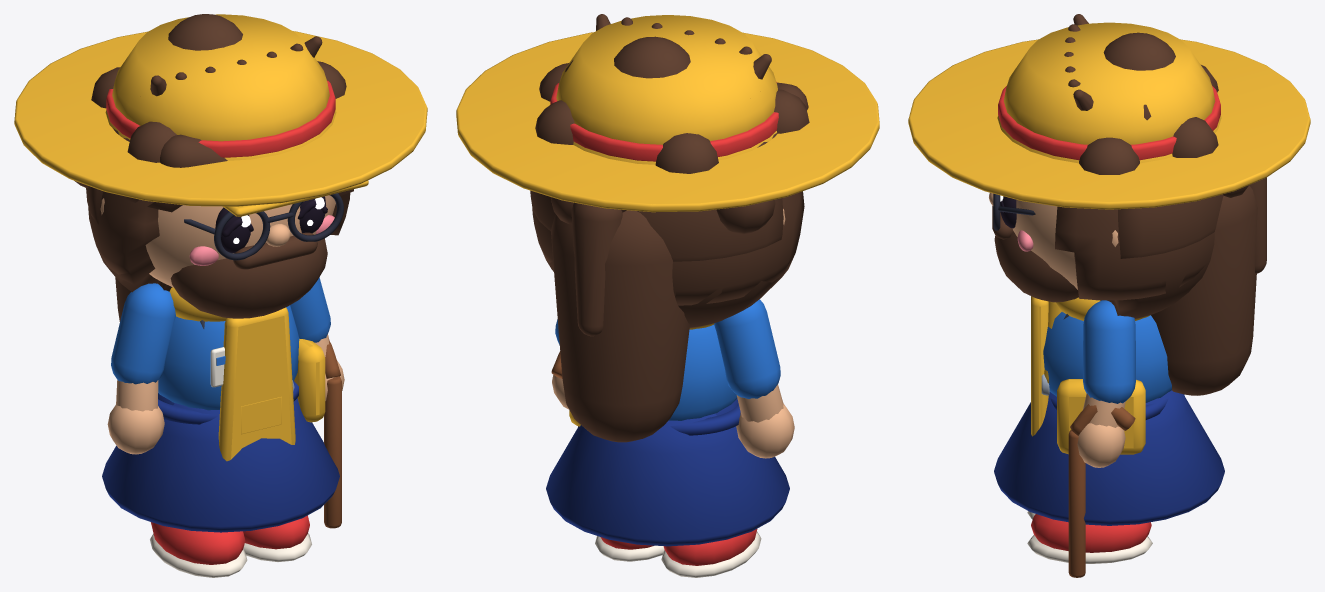
The model's file is kid.glb.
3 renders of one model, left to right at view 1: azimuth 30°, elevation 25°; view 2: azimuth 150°, elevation 25°; view 3: azimuth 270°, elevation 25°, orthographic. The views are drawn at different scales.
Parts seen in each view (by area): view 1: Acc_sunhat_Accent, Acc_skirt_Bottom, Acc_apron_Accent, Acc_beard_Hair, Body_Top, Head_Skin, ArmL_Top, Hair_bob_Hair, ArmL_Skin, Acc_sunhat_Satin, Hair_curls_Hair, LegL_Shoes (+17 smaller); view 2: Acc_sunhat_Accent, Hair_long_Hair, Acc_skirt_Bottom, Hair_curls_Hair, Hair_bob_Hair, ArmL_Top, Hair_pony_Hair, Body_Top, ArmL_Skin, Acc_sunhat_Satin, Hair_bun_Hair, LegL_Shoes (+5 smaller); view 3: Acc_sunhat_Accent, Hair_long_Hair, Acc_skirt_Bottom, Hair_curls_Hair, Hair_bob_Hair, ArmR_Top, Body_Top, Acc_cane_Gloss, Acc_beard_Hair, Acc_bag_Accent, Acc_sunhat_Satin, LegR_Shoes (+9 smaller).
Boxes of the visible parts, x1,y1,x2,y2 form: Acc_sunhat_Accent: (14, 14, 427, 206); Acc_skirt_Bottom: (102, 398, 339, 532); Acc_apron_Accent: (218, 307, 295, 461); Acc_beard_Hair: (170, 232, 327, 318); Body_Top: (158, 305, 299, 410); Head_Skin: (100, 195, 335, 287); ArmL_Top: (111, 283, 175, 384); Hair_bob_Hair: (88, 191, 348, 277); ArmL_Skin: (107, 380, 164, 454); Acc_sunhat_Satin: (106, 80, 335, 157); Hair_curls_Hair: (74, 61, 346, 224); LegL_Shoes: (151, 522, 245, 564); Acc_sunhat_Accent: (456, 15, 879, 212); Hair_long_Hair: (532, 191, 804, 442); Acc_skirt_Bottom: (546, 413, 789, 546); Hair_curls_Hair: (530, 60, 809, 261); Hair_bob_Hair: (541, 191, 803, 305); ArmL_Top: (714, 299, 780, 398); Hair_pony_Hair: (571, 202, 626, 336); Body_Top: (669, 325, 737, 420); ArmL_Skin: (736, 384, 794, 458); Acc_sunhat_Satin: (550, 82, 778, 161); Hair_bun_Hair: (614, 36, 690, 78); LegL_Shoes: (663, 529, 757, 565); Acc_sunhat_Accent: (908, 22, 1310, 209); Hair_long_Hair: (1055, 185, 1257, 395); Acc_skirt_Bottom: (994, 390, 1224, 525); Hair_curls_Hair: (1079, 65, 1248, 258); Hair_bob_Hair: (1056, 206, 1214, 300); ArmR_Top: (1083, 300, 1135, 403); Body_Top: (1043, 312, 1171, 402); Acc_cane_Gloss: (1068, 404, 1135, 577); Acc_beard_Hair: (992, 206, 1078, 302); Acc_bag_Accent: (1057, 379, 1145, 454); Acc_sunhat_Satin: (998, 86, 1220, 160); LegR_Shoes: (1031, 514, 1151, 552).
Size of the model in its own units: 0.9975 by 1.38 by 0.9975.
